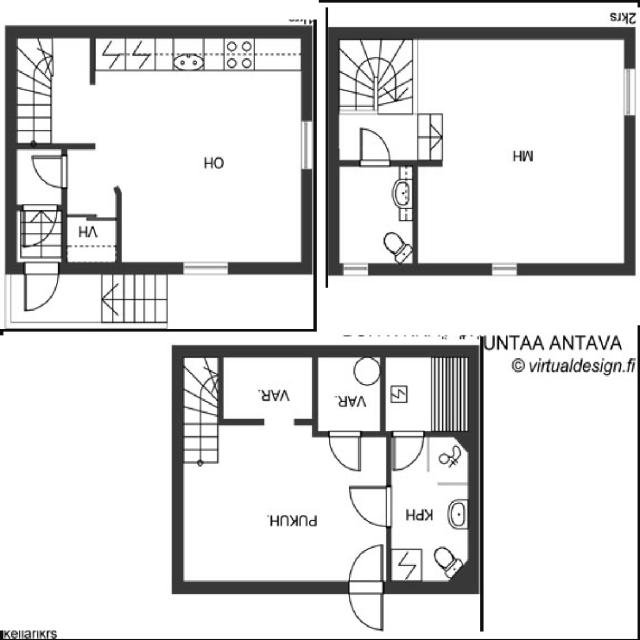door: (344, 542, 387, 632), (344, 481, 396, 529), (19, 260, 61, 315), (29, 149, 72, 193), (354, 124, 396, 169), (326, 429, 364, 475), (389, 430, 427, 472)
window: (295, 116, 319, 174), (174, 258, 235, 279), (618, 64, 640, 122), (482, 260, 526, 279), (339, 260, 376, 280)
zone: (420, 32, 633, 269), (106, 38, 312, 268), (177, 418, 394, 592), (388, 431, 473, 588), (14, 32, 94, 148), (334, 162, 417, 271), (384, 353, 478, 435), (220, 353, 316, 423), (315, 353, 383, 434), (63, 145, 119, 219), (64, 215, 120, 268)
